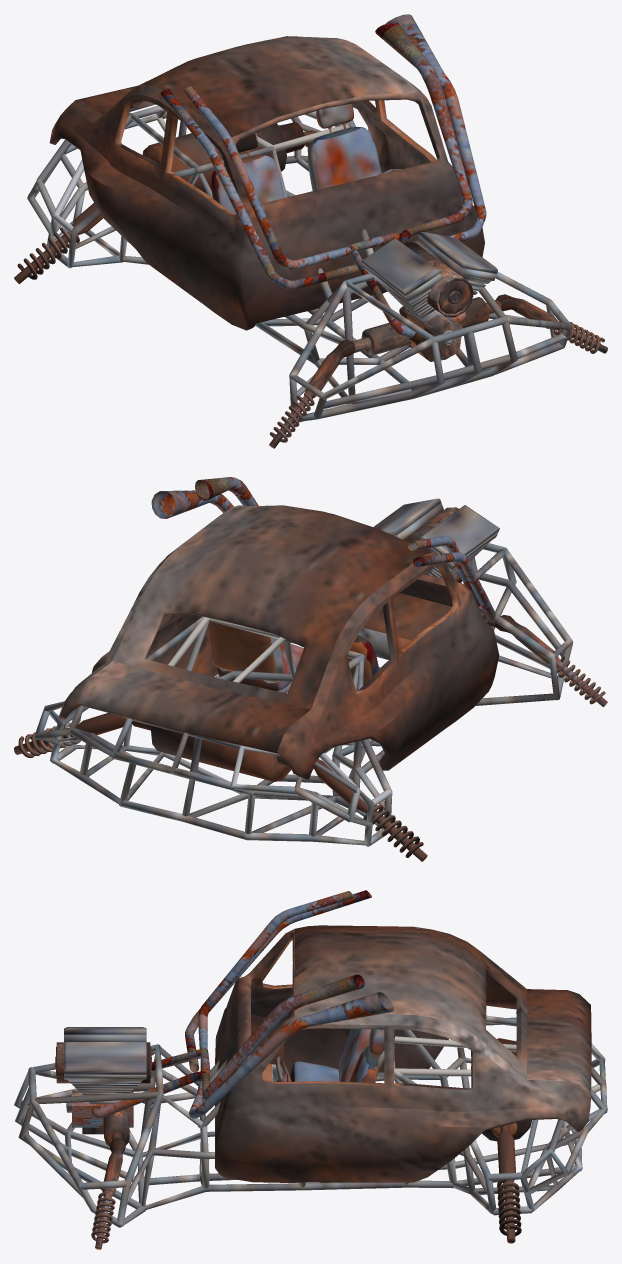
File: Coche_Medio_02_Carroceria.fbx
3 renders of one model, top to bottom at view 1: azimuth 30°, elevation 25°; view 2: azimuth 150°, elevation 25°; view 3: azimuth 270°, elevation 25°, orthographic. The views are drawn at different scales.
Visible parts, largest first — view 1: Plane.004; view 2: Plane.004; view 3: Plane.004.
Boxes of the visible parts, <box> form: Plane.004: <box>14,14,607,448</box>; Plane.004: <box>14,477,607,861</box>; Plane.004: <box>14,890,607,1249</box>.
Bounding box in the file's own units: 736 × 468 × 993.
